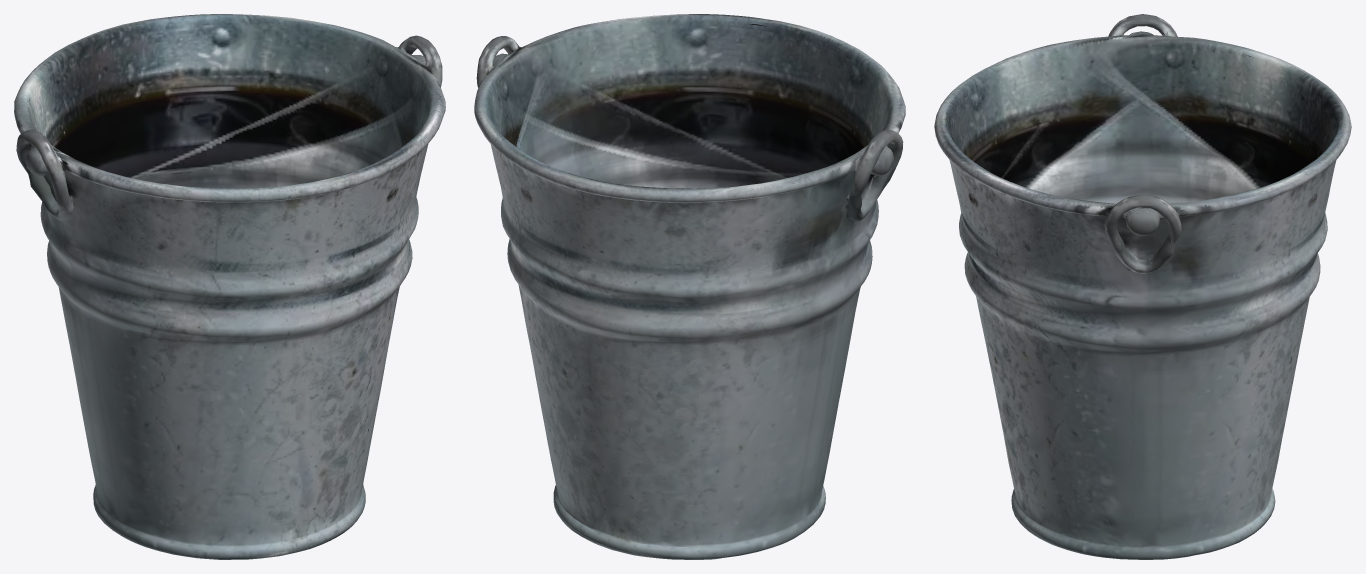
The model's file is bucket-steel.glb.
3 views of the same model, side by side, from view 1: azimuth 30°, elevation 25°; view 2: azimuth 150°, elevation 25°; view 3: azimuth 270°, elevation 25° (orthographic). The views are drawn at different scales.
Parts seen in each view (by area): view 1: cowninja-bucket-steel; view 2: cowninja-bucket-steel; view 3: cowninja-bucket-steel.
Boxes of the visible parts, left/top/right/bottom form: cowninja-bucket-steel: left=14, top=14, right=445, bottom=559; cowninja-bucket-steel: left=474, top=14, right=905, bottom=559; cowninja-bucket-steel: left=934, top=14, right=1351, bottom=559.
Size of the model in its own units: 0.3495 by 0.3499 by 0.3291.
Materials: 1 (1 with a texture image).
